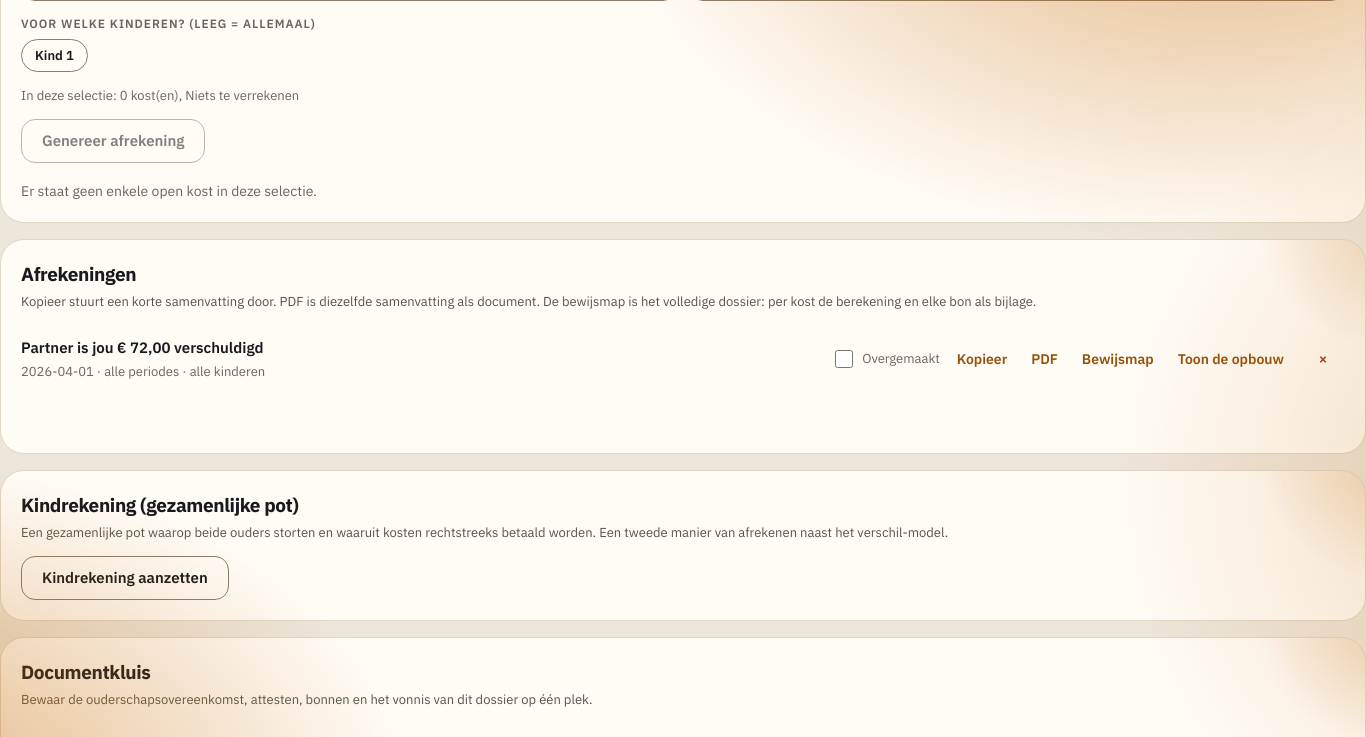
Test: DossierSectie — een afrekening verwijderen › wist niet meteen, maar vraagt eerst
The width and height of the screenshot is (1366, 737).
(page scrolled)
Step 1. Click the button named "Verwijder afrekening 1 apr 2026" → point(1323, 359), box [1301,337,1345,381]
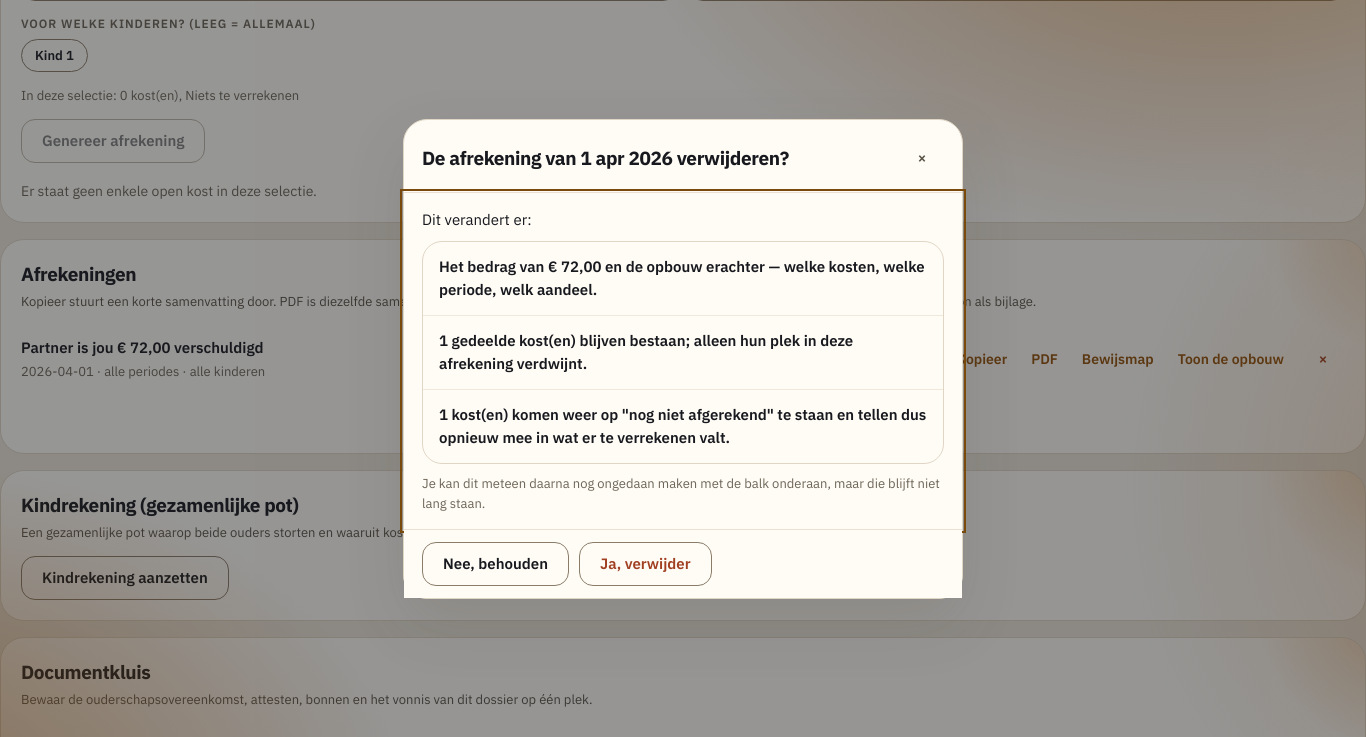
Result: the heading "De afrekening van 1 apr 2026 verwijderen?" is shown at [422,144,789,172]
